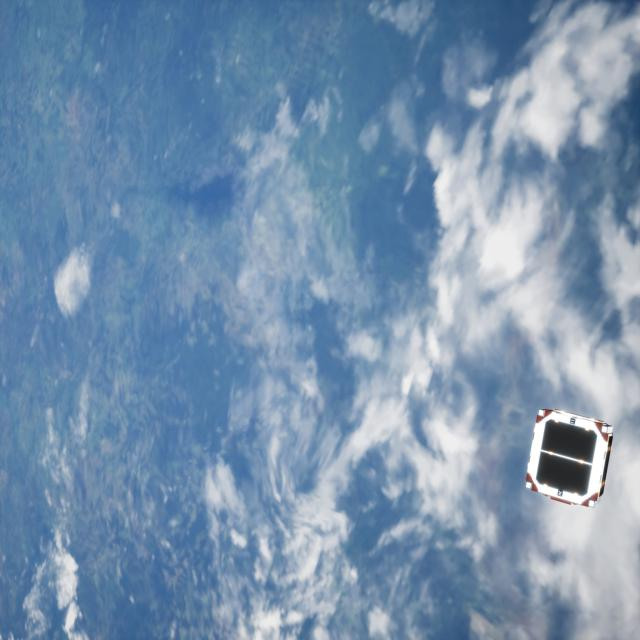satellite: (519, 407, 620, 512)
